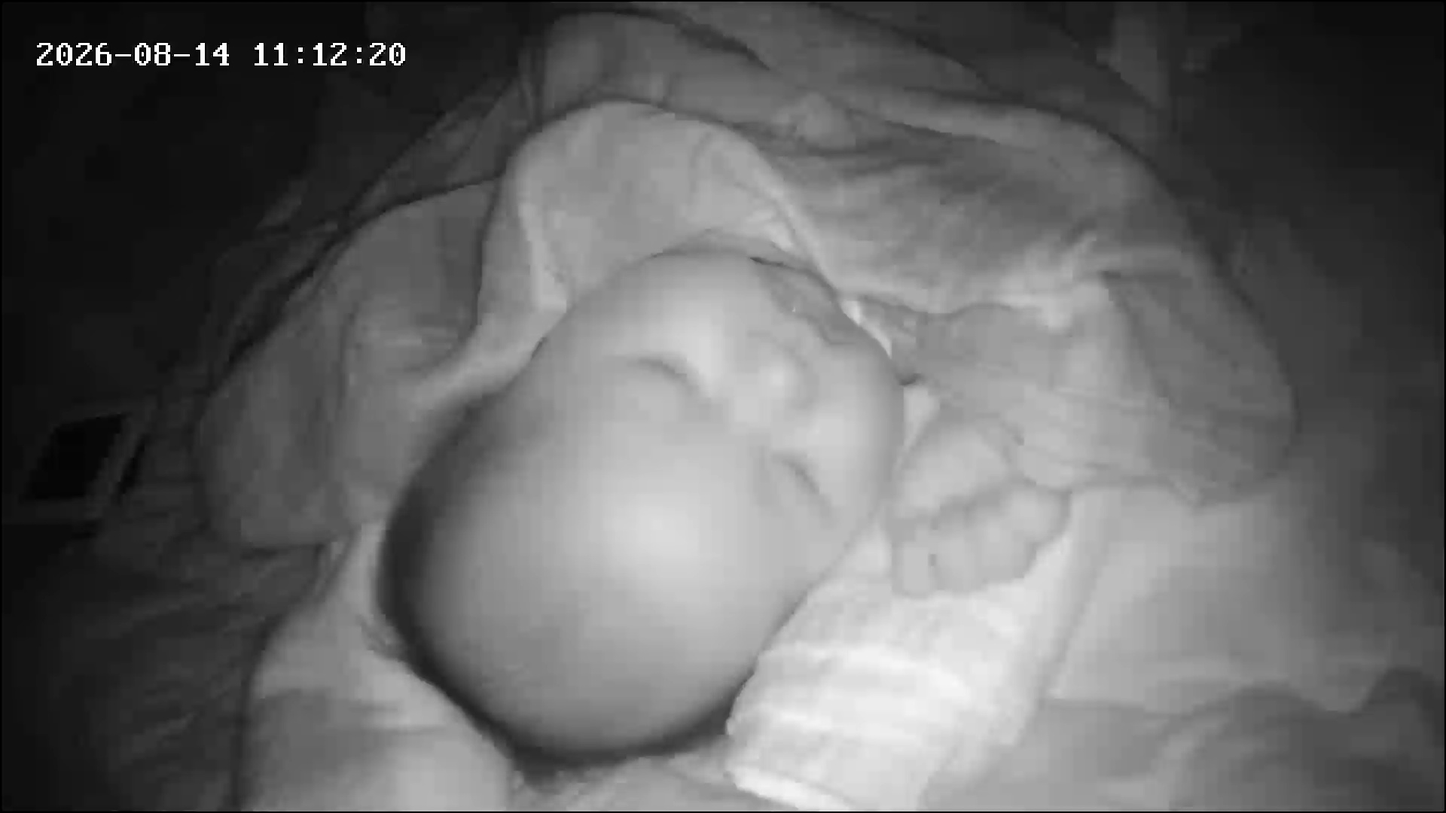baby: (328, 2, 1344, 801)
baby_face: (374, 226, 915, 782)
